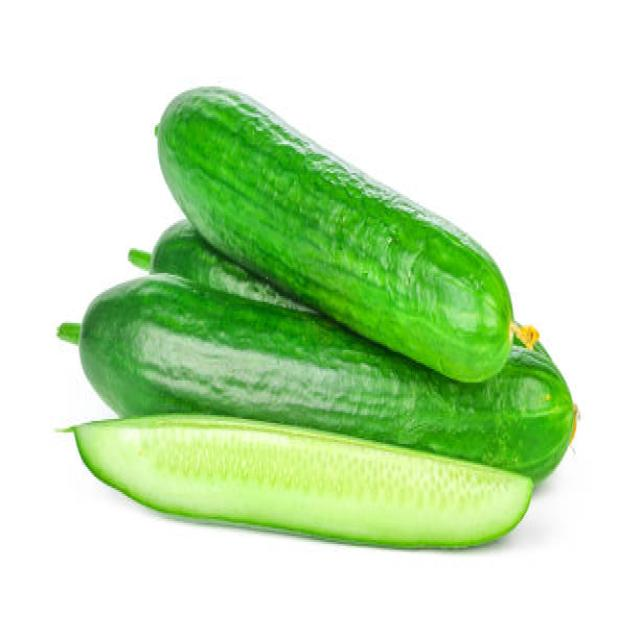cucumber: (76, 84, 574, 551)
